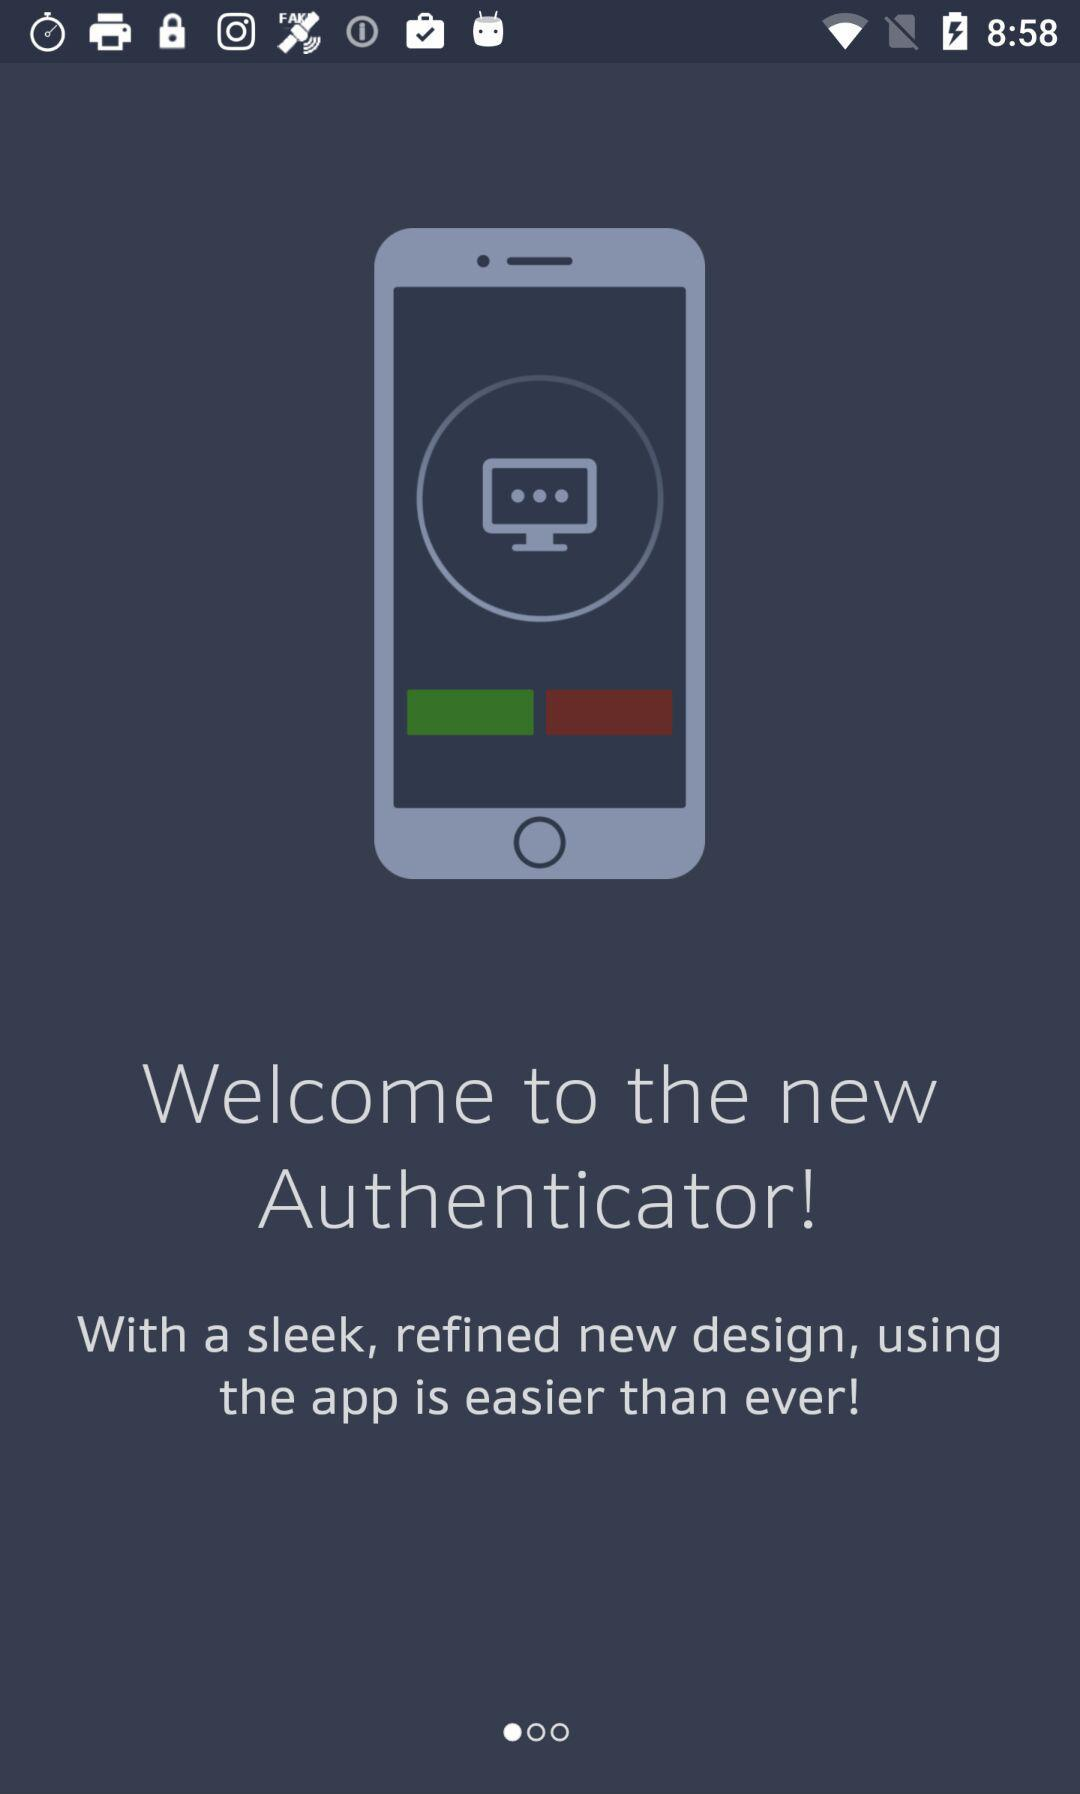Image: (373, 228, 706, 880)
PageIndicator: (503, 1721, 571, 1744)
Text: (141, 1064, 938, 1231), (77, 1315, 1001, 1425)
UpperTaskBar: (1, 1, 1080, 64)
